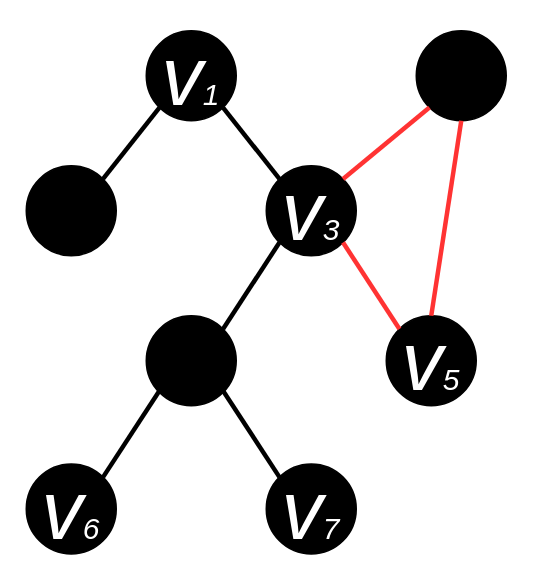
Some shapes in this 533 by 584 pixel diagram are drawn without their labels. Here are the shapes that lost their labels. From the top down, the centre of each, then its label:
At (460,75): "v 8".
At (70,210): "v 2".
At (190,360): "e v 4".
